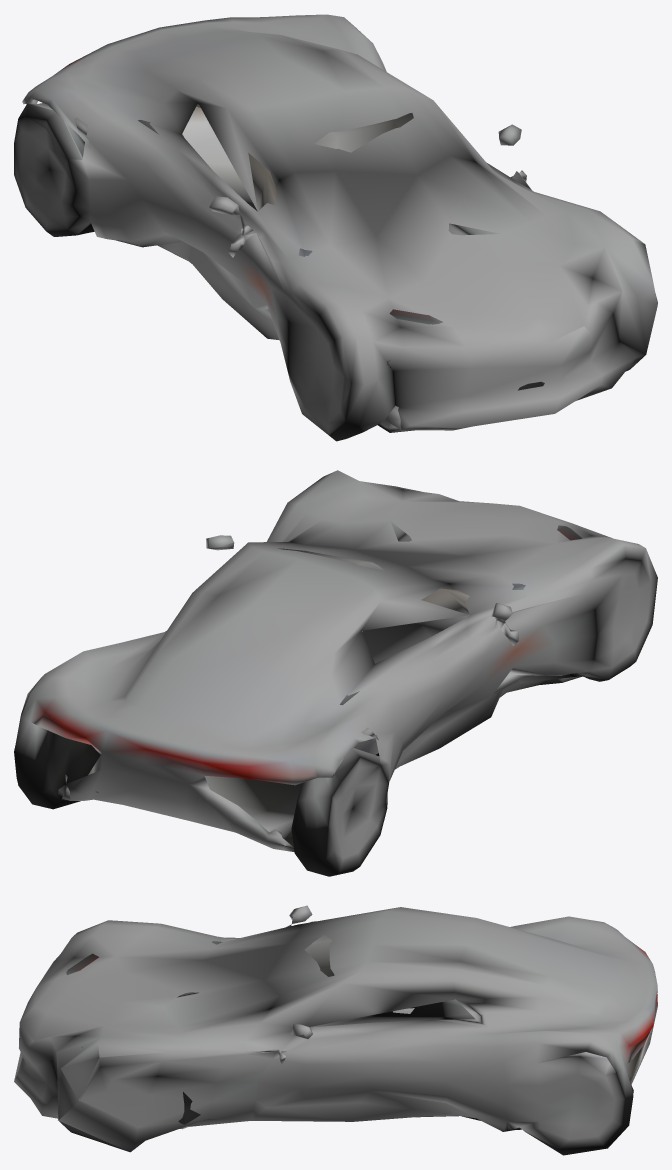
File: 6451005-silver-sports-car-1k.glb
3 views of the same model, one above another, from view 1: azimuth 30°, elevation 25°; view 2: azimuth 150°, elevation 25°; view 3: azimuth 270°, elevation 25° (orthographic). The views are drawn at different scales.
Visible parts, largest first — view 1: Retopo_neural_node_0d306645-5f71-481e-be27-567b109f7078; view 2: Retopo_neural_node_0d306645-5f71-481e-be27-567b109f7078; view 3: Retopo_neural_node_0d306645-5f71-481e-be27-567b109f7078.
Part boxes in pixels (x1,y1,x2,y2): Retopo_neural_node_0d306645-5f71-481e-be27-567b109f7078: (14,14,657,441); Retopo_neural_node_0d306645-5f71-481e-be27-567b109f7078: (14,470,657,876); Retopo_neural_node_0d306645-5f71-481e-be27-567b109f7078: (14,905,657,1155).
Size of the model in its own units: 0.4488 by 0.2548 by 0.9325.
